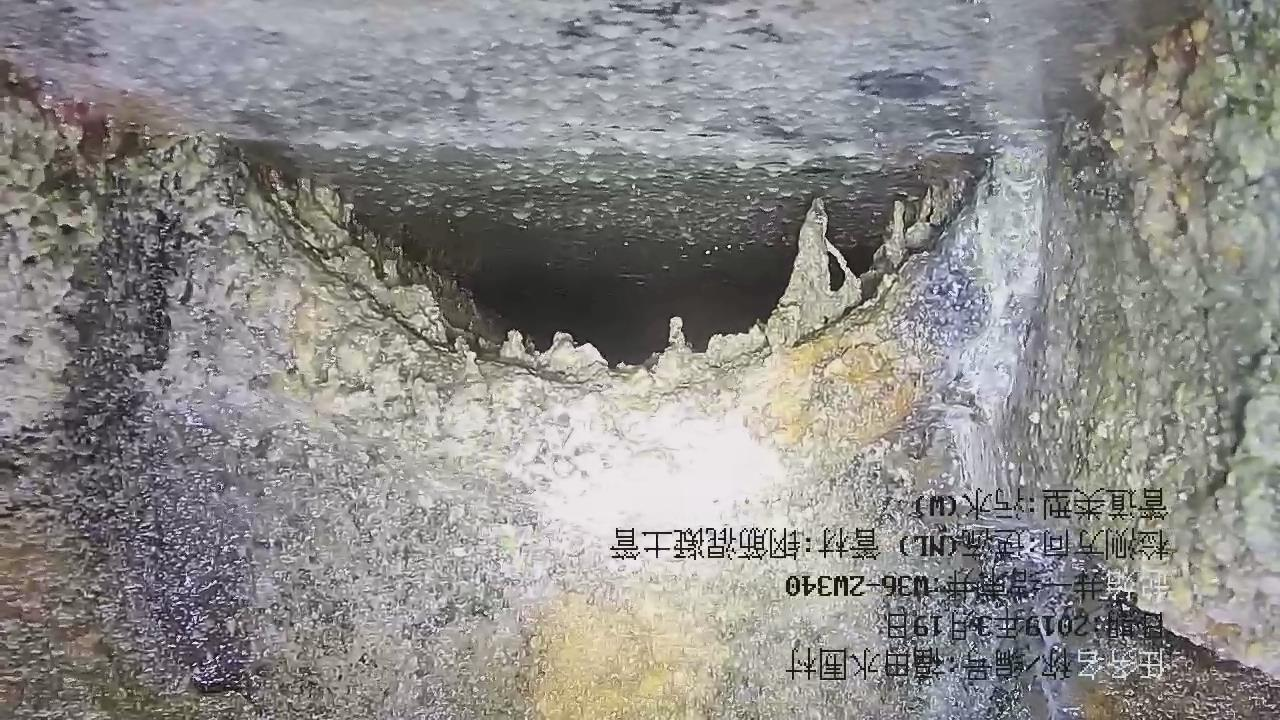FZ: (1, 1, 1188, 286)
